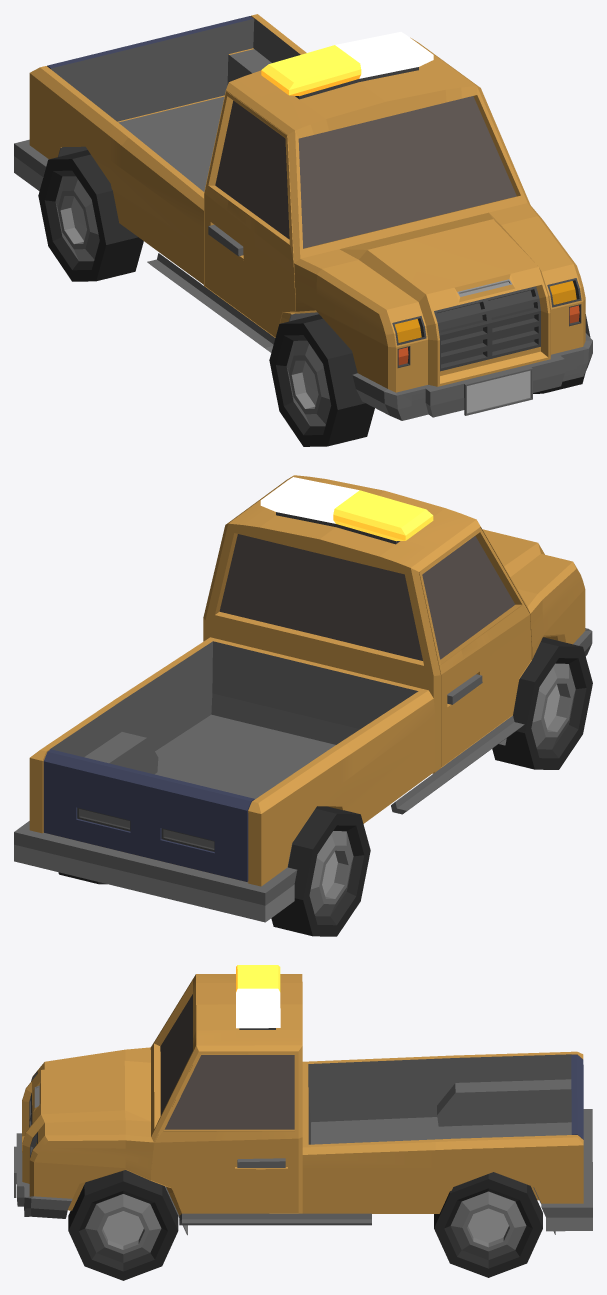
Rendered from Orange Truck.glb.
3 views of the same model, one above another, from view 1: azimuth 30°, elevation 25°; view 2: azimuth 150°, elevation 25°; view 3: azimuth 270°, elevation 25° (orthographic). The views are drawn at different scales.
Parts seen in each view (by area): view 1: Orange Truck; view 2: Orange Truck; view 3: Orange Truck.
Boxes of the visible parts, x1,y1,x2,y2 form: Orange Truck: (14,14,592,446); Orange Truck: (14,475,592,936); Orange Truck: (14,965,592,1280).
Size of the model in its own units: 1.69 by 1.84 by 4.
